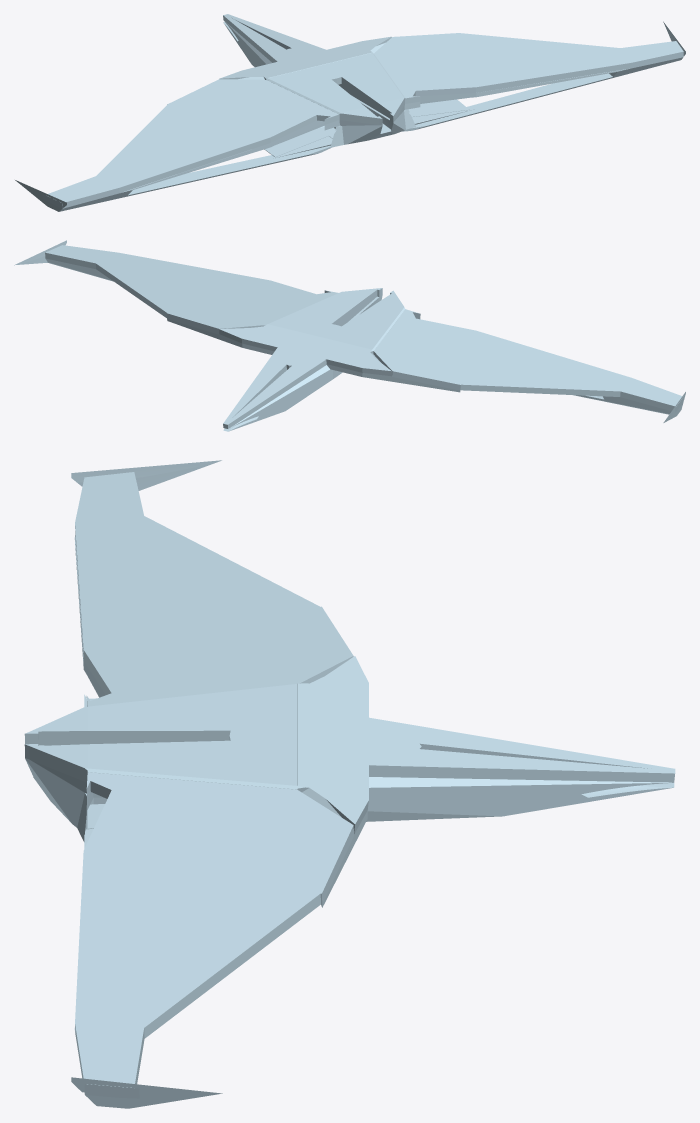
Rendered from glb_mach1.glb.
3 renders of one model, top to bottom at view 1: azimuth 30°, elevation 25°; view 2: azimuth 150°, elevation 25°; view 3: azimuth 270°, elevation 25°, orthographic. The views are drawn at different scales.
Visible parts, largest first — view 1: Part 1; view 2: Part 1; view 3: Part 1.
Part boxes in pixels (bbox=[...]): Part 1: bbox=[15, 14, 685, 211]; Part 1: bbox=[14, 240, 685, 431]; Part 1: bbox=[24, 460, 675, 1108].
Bounding box in the file's own units: 0.5968 × 0.0379 × 0.259.
